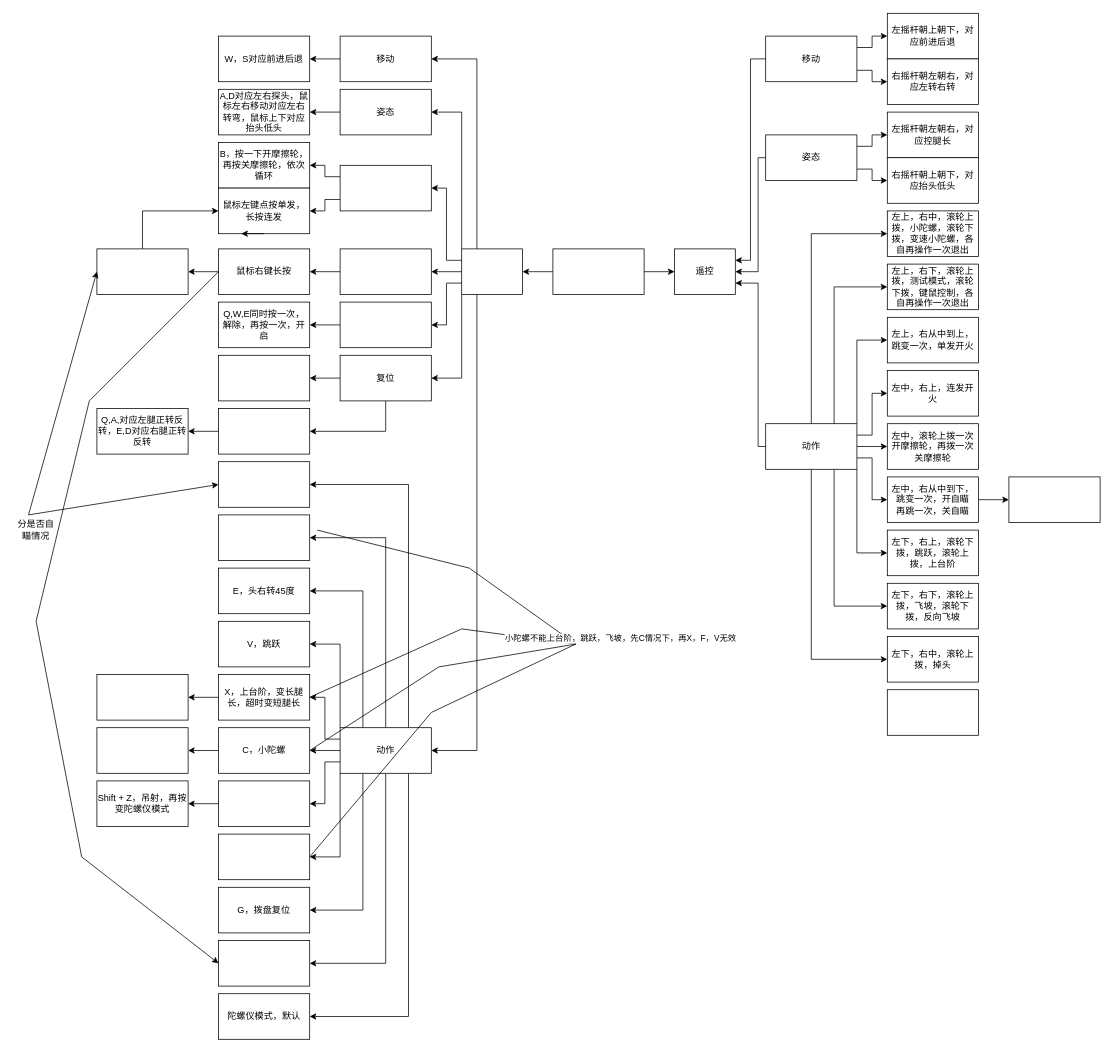
Some shapes in this 1113 by 1053 pixel diagram are drawn without their labels. Each missing label, with the centre of its shape:
F，飞坡，变中腿长，再按取消，超时也会变回短腿长: the point at 264,856
Q,头左转45度: the point at 264,537
R,自瞄操作手介入: the point at 142,271
R，掉头: the point at 264,484
Shift + C,变速小陀螺，再按变陀螺仪模式: the point at 142,750
Shift + V，按一下打前哨，再按一下打小符，再按一下打大符，再按一下退出: the point at 264,963
shift + X,上二级台阶，再按取消: the point at 142,697
Z,X,C同时点按一次手动自救，再同时按一次不自救: the point at 264,431
Z,X,C同时长按两秒一次卸力，再长按两秒一次自动复位: the point at 264,378
Z，机械模式: the point at 264,803
发射: the point at 385,188
左下，右中，滚轮下拨，拨盘复位: the point at 932,712
能量限制: the point at 385,324
自瞄: the point at 385,271
轮腿操作逻辑: the point at 598,271
键鼠: the point at 491,271
默认简单自瞄，滚轮 下拨一次打小符，再下拨一次打大符，再下拨前哨，再下拨一次英雄，以此类推: the point at 1054,499
